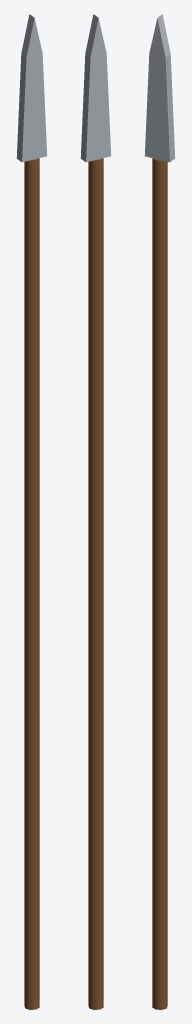
File: celt-gaesum.glb
3 renders of one model, left to right at view 1: azimuth 30°, elevation 25°; view 2: azimuth 210°, elevation 25°; view 3: azimuth 330°, elevation 25°, orthographic.
Parts seen in each view (by area): view 1: Shaft, Blade; view 2: Shaft, Blade; view 3: Shaft, Blade.
Boxes of the visible parts, x1,y1,x2,y2 form: Shaft: (24, 158, 39, 1009); Blade: (16, 14, 47, 162); Shaft: (88, 158, 103, 1009); Blade: (80, 14, 111, 162); Shaft: (152, 158, 167, 1009); Blade: (144, 14, 175, 162).
Size of the model in its own units: 0.056 by 2.1 by 0.03.
